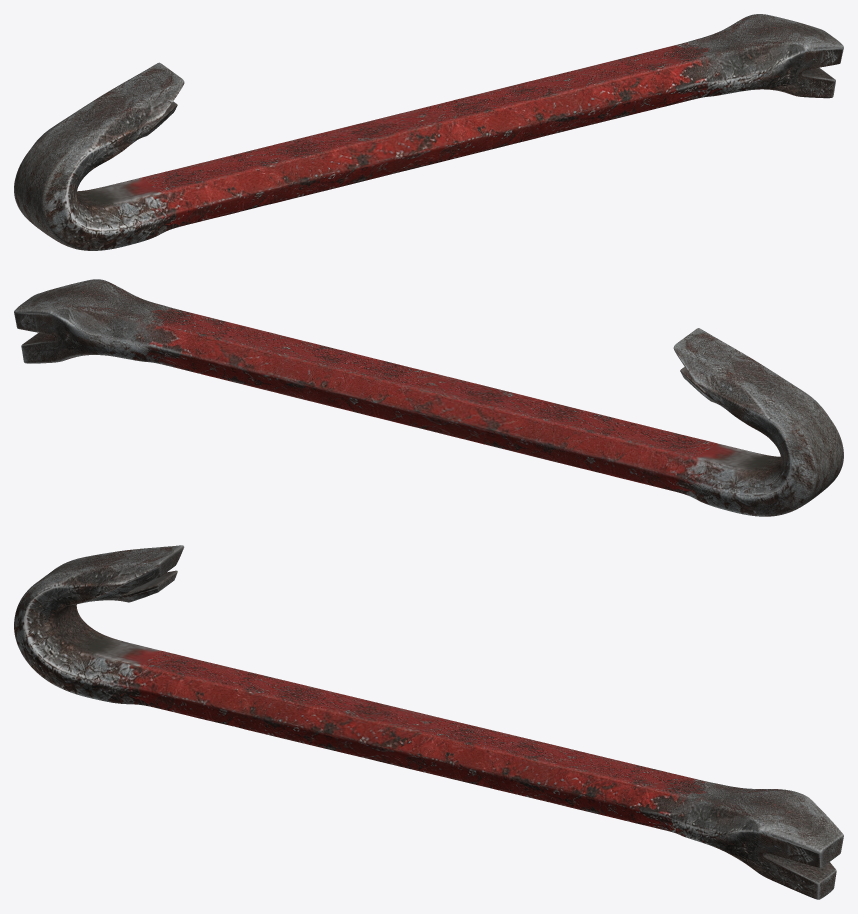
File: crowbar_meshy_2026-11-15.glb
3 views of the same model, one above another, from view 1: azimuth 30°, elevation 25°; view 2: azimuth 150°, elevation 25°; view 3: azimuth 330°, elevation 25° (orthographic).
Bounding box in the file's own units: 1.9 × 0.4112 × 0.1982.
Materials: 1 (1 with a texture image).
